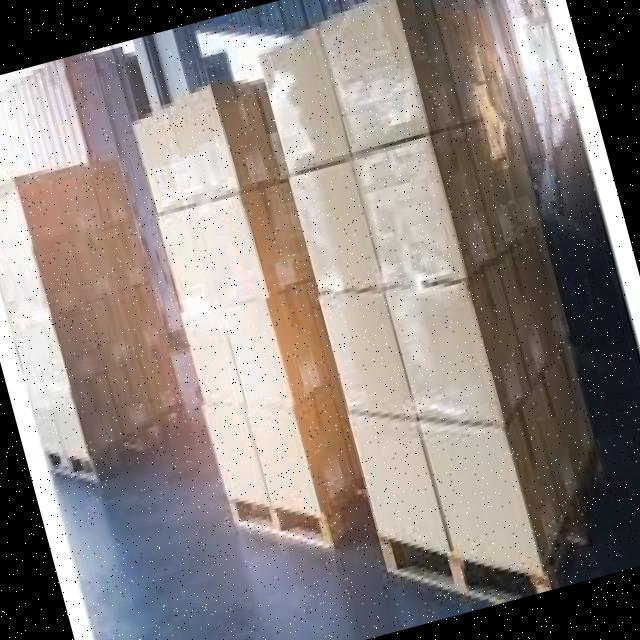Wooden-Pallets: (376, 527, 542, 601), (220, 479, 340, 559)
